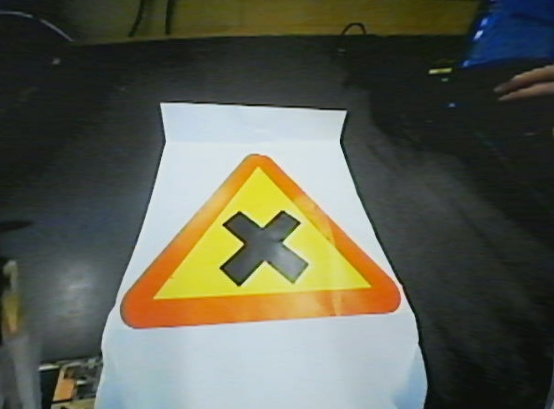junction: (122, 147, 404, 322)
